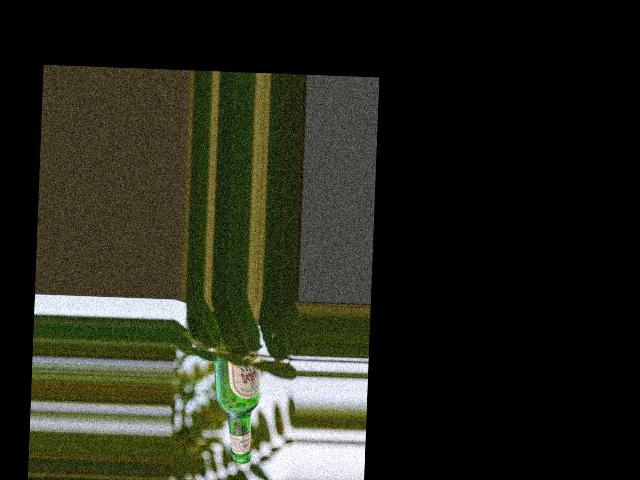beer: (212, 345, 262, 464)
